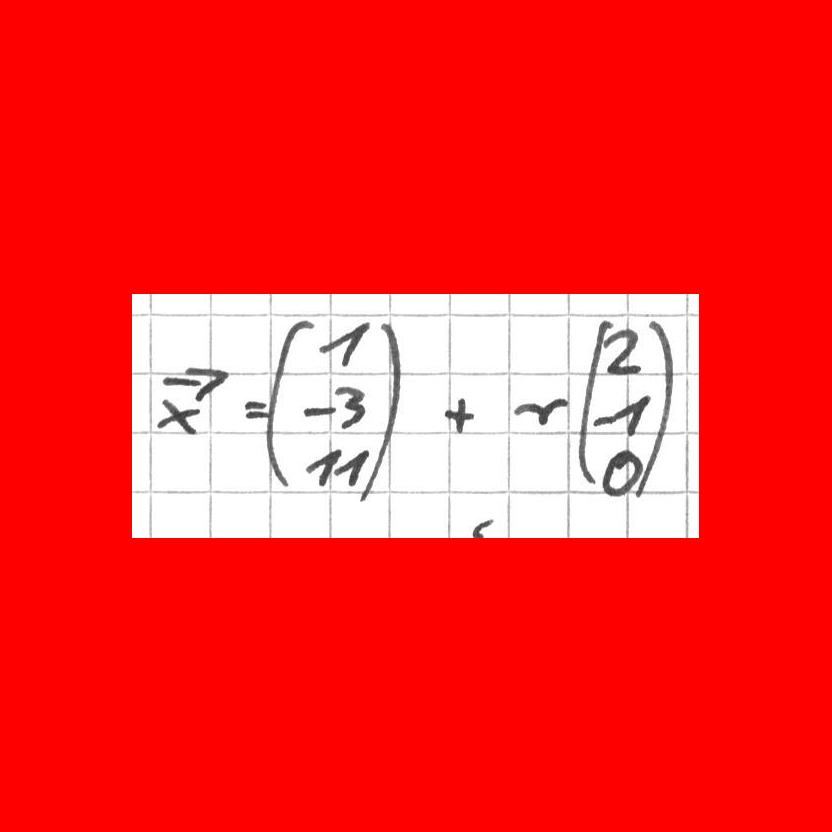Char: (266, 314, 312, 485), (371, 316, 401, 492), (646, 314, 675, 494), (577, 320, 605, 491), (316, 319, 374, 369), (155, 361, 232, 395), (598, 322, 645, 375), (597, 393, 647, 435), (511, 394, 568, 430), (597, 452, 644, 493), (153, 398, 202, 437), (334, 381, 371, 432), (335, 445, 371, 490), (304, 446, 341, 488), (442, 393, 474, 435), (300, 401, 337, 421), (239, 398, 269, 422), (469, 514, 497, 538)
